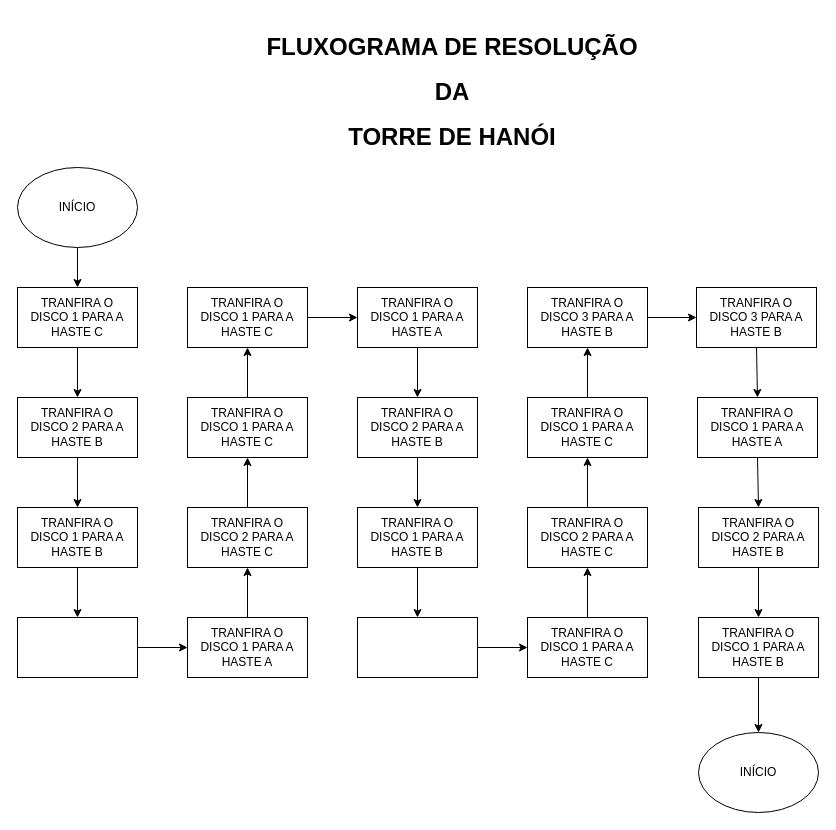
Some shapes in this 836 by 830 pixel diagram are drawn without their labels. Each missing label, with the centre of its shape:
TRANFIRA O DISCO 3 PARA A HASTE A: [417,647]
TRANFIRA O DISCO 3 PARA A HASTE C: [77,647]
